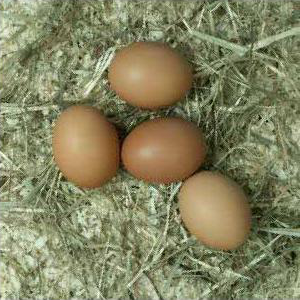egg: (177, 170, 252, 251), (109, 43, 194, 110), (121, 118, 206, 185), (52, 107, 121, 189)
